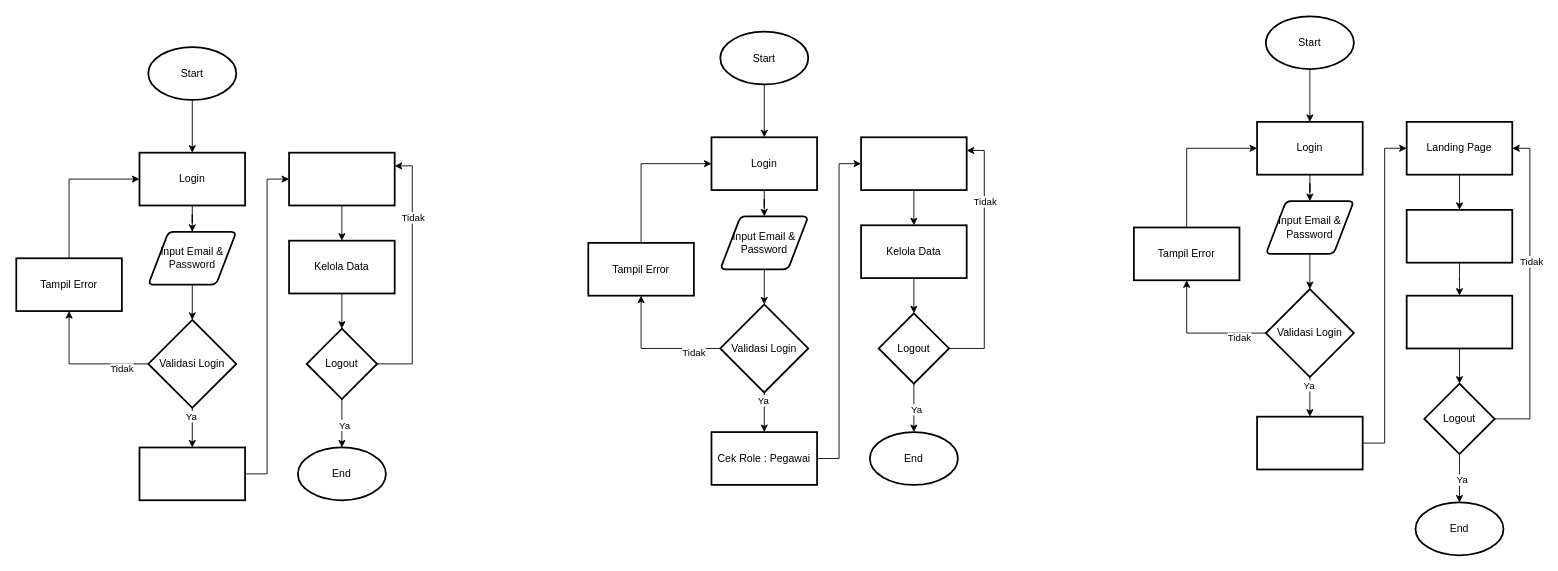
The diagram is 1558 pixels wide and 571 high, and some of its shapes have lost their labels. The shapes that lost their labels are listed below. From the top down, each one's centre as x and y in pixels, then its label:
At point (341, 178): "Dashboard Admin".
At point (913, 163): "Dashboard Pegawai".
At point (1459, 236): "Melakukan Reservasi".
At point (1459, 321): "Melakukan Pembayaran".
At point (1309, 442): "Cek Role : Pelanggan".
At point (192, 473): "Cek Role : Admin".
